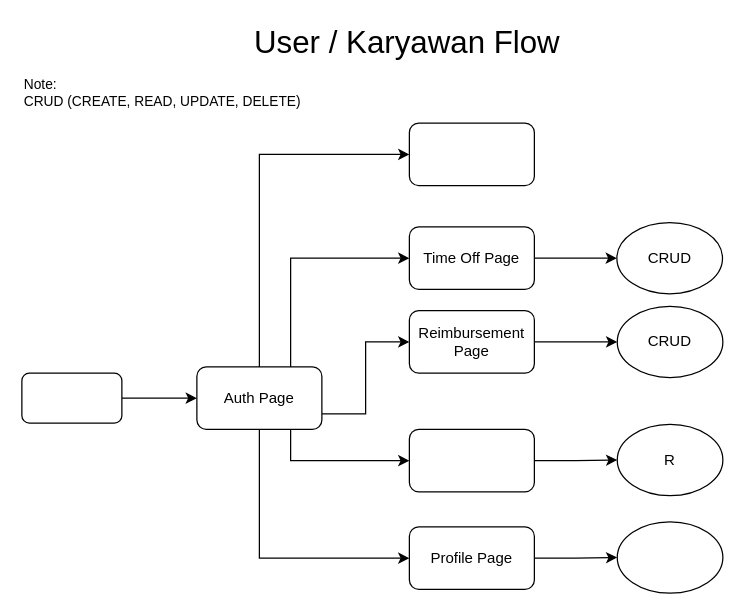
Image size: 745x615. Some labels were removed from this diagram. The shapes that lost their labels are listed below. From the top down, each one's centre as x and y in pixels, then its label:
At (471,154): "Dashboard Page".
At (71,397): "Karyawan / User".
At (471,460): "Approval Page".
At (669,557): "RU".
